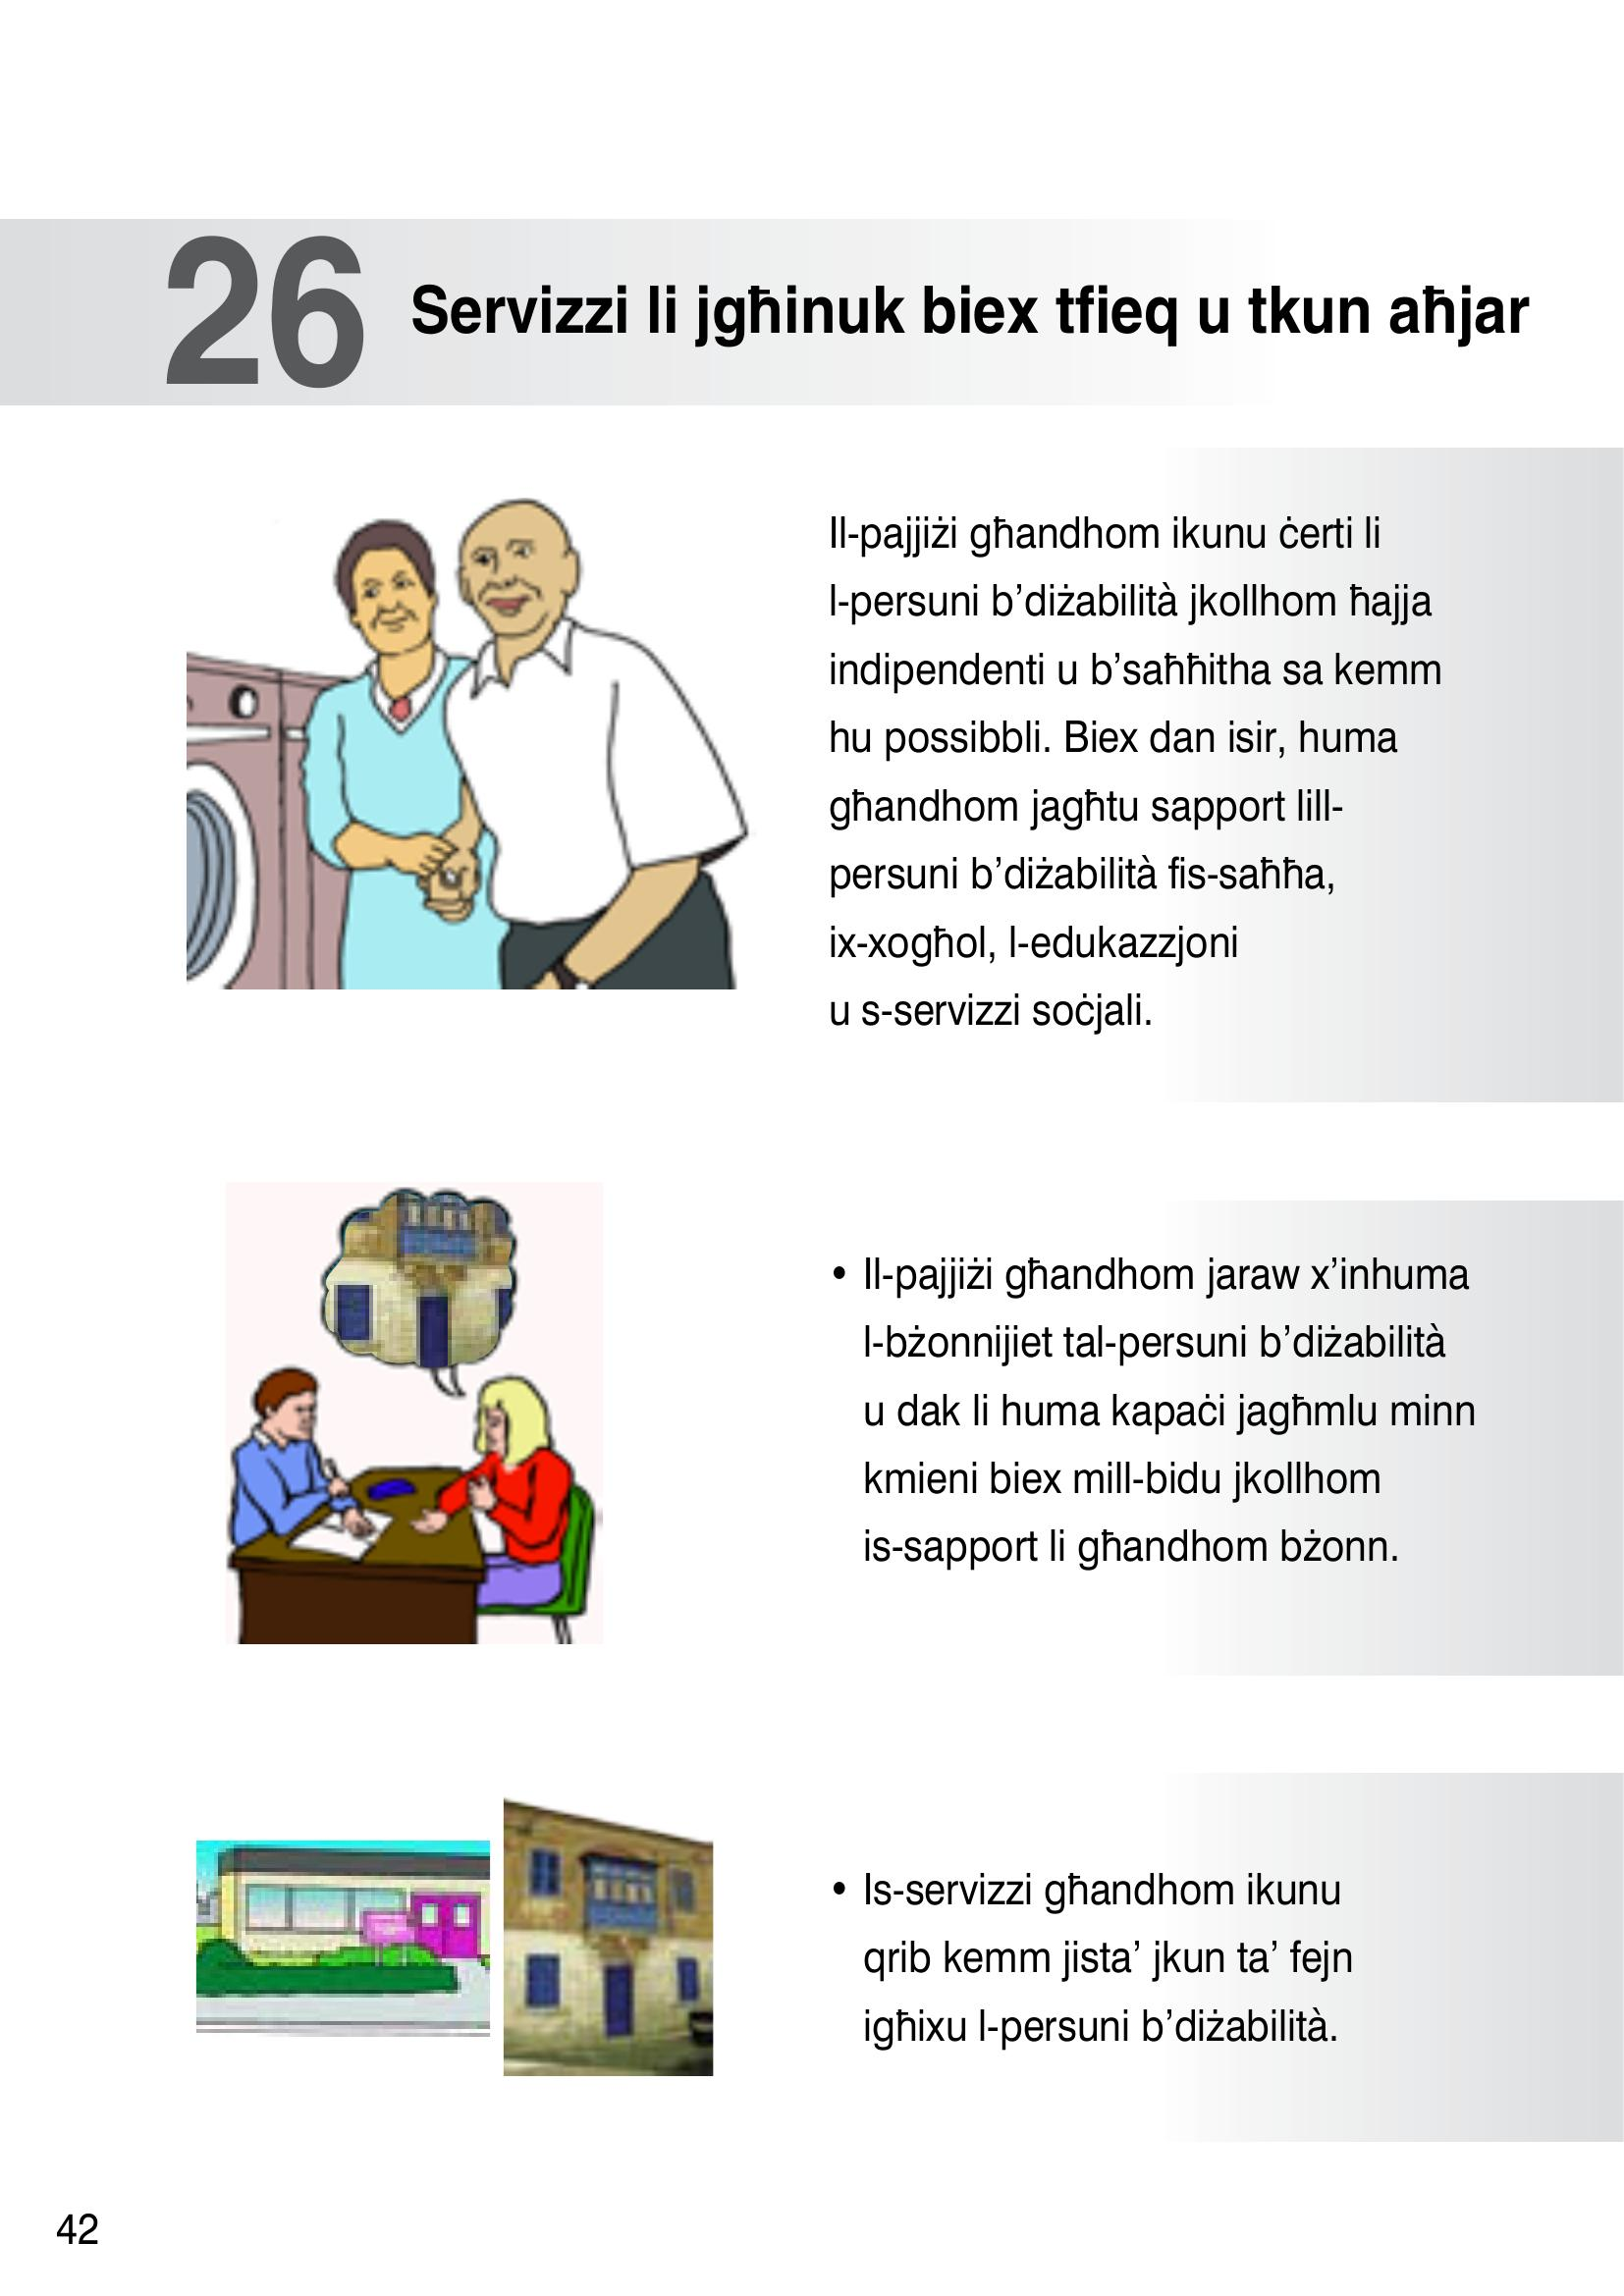text: (789, 457, 1494, 2090), (158, 221, 1545, 408)
